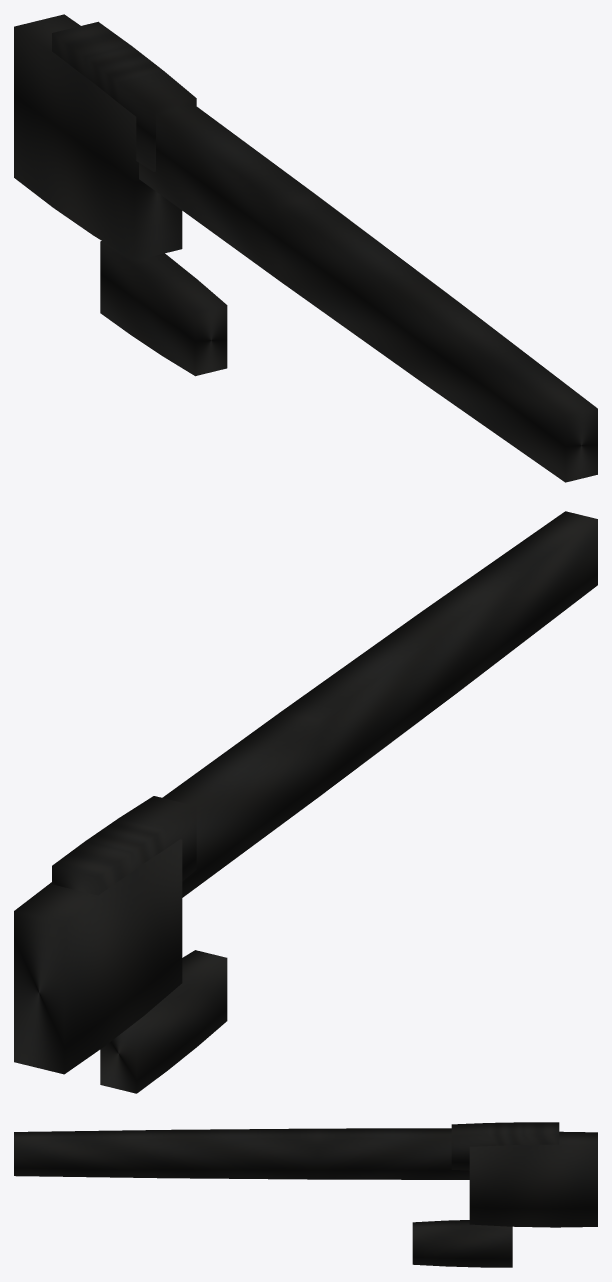
The model's file is wpn_garrote_mesh.glb.
The picture shows the model from 3 angles, top to bottom: view 1: azimuth 30°, elevation 25°; view 2: azimuth 150°, elevation 25°; view 3: azimuth 270°, elevation 25°; orthographic projection. The views are drawn at different scales.
Visible parts, largest first — view 1: SubMesh_3_BarrelSight, SubMesh_0_Receiver, SubMesh_2_Magazine, SubMesh_1_Action; view 2: SubMesh_3_BarrelSight, SubMesh_0_Receiver, SubMesh_2_Magazine, SubMesh_1_Action; view 3: SubMesh_3_BarrelSight, SubMesh_0_Receiver, SubMesh_2_Magazine, SubMesh_1_Action.
Boxes of the visible parts, bbox=[...] form: SubMesh_3_BarrelSight: bbox=[139, 104, 597, 482]; SubMesh_0_Receiver: bbox=[14, 14, 182, 260]; SubMesh_2_Magazine: bbox=[100, 241, 227, 376]; SubMesh_1_Action: bbox=[52, 21, 196, 171]; SubMesh_3_BarrelSight: bbox=[162, 511, 597, 897]; SubMesh_0_Receiver: bbox=[14, 839, 182, 1074]; SubMesh_2_Magazine: bbox=[100, 950, 227, 1093]; SubMesh_1_Action: bbox=[52, 796, 196, 895]; SubMesh_3_BarrelSight: bbox=[14, 1128, 469, 1179]; SubMesh_0_Receiver: bbox=[469, 1131, 597, 1227]; SubMesh_2_Magazine: bbox=[412, 1220, 512, 1267]; SubMesh_1_Action: bbox=[451, 1122, 559, 1170].
Bounding box in the file's own units: 0.0223 × 0.1042 × 0.41.
1 material, 1 textured.
